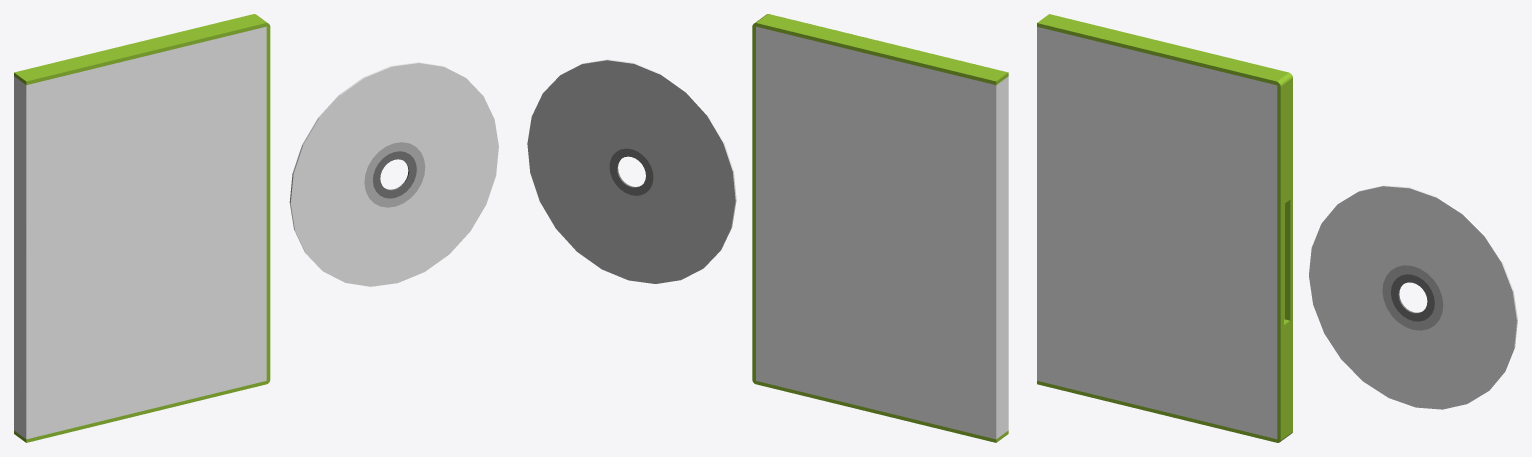
3 views of the same model, side by side, from view 1: azimuth 30°, elevation 25°; view 2: azimuth 150°, elevation 25°; view 3: azimuth 330°, elevation 25° (orthographic).
Parts seen in each view (by area): view 1: halo case improved; view 2: halo case improved; view 3: halo case improved.
Boxes of the visible parts, x1,y1,x2,y2 form: halo case improved: (14,14,498,442); halo case improved: (527,14,1008,442); halo case improved: (1037,14,1517,442).
Size of the model in its own units: 10.53 by 7.64 by 0.4725.
